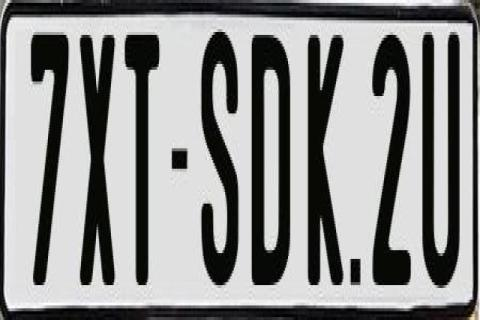0: (31, 32, 73, 294), (373, 27, 413, 280)
D: (250, 29, 294, 285)
K: (308, 35, 344, 285)
S: (202, 23, 242, 276)
T: (126, 26, 163, 282)
U: (421, 27, 461, 286)
X: (79, 32, 121, 291)
